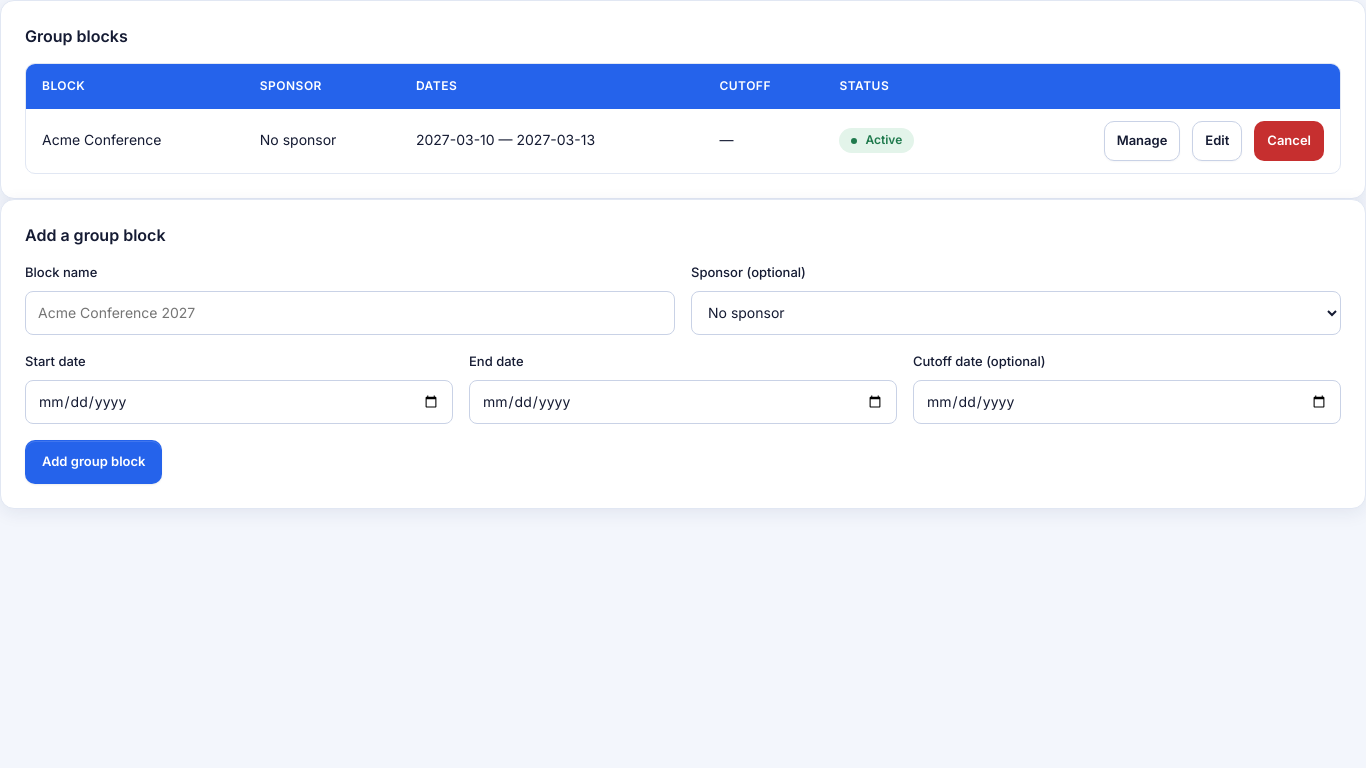
Test case: <BlocksTab> › surfaces a real backend error on create
expect the text "Acme Conference" is shown: met, box [26, 108, 244, 173]
Type "Bad Block" into the field with placeholder "Acme Conference 2027".
click(350, 313); type("Bad Block")  # box [25, 291, 675, 335]
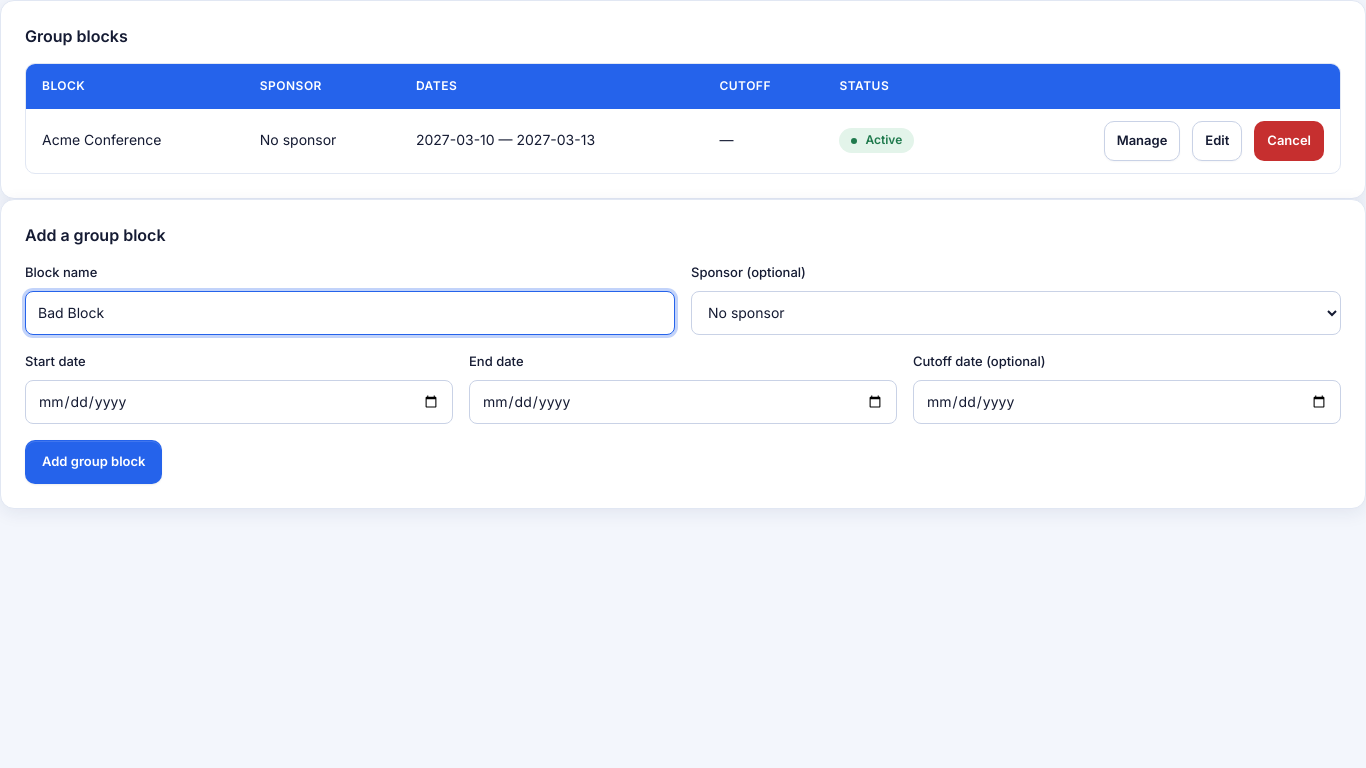
Type "2027-04-01" into the date field labelled "Start date".
click(239, 402); type("2027-04-01")  # box [25, 380, 453, 424]
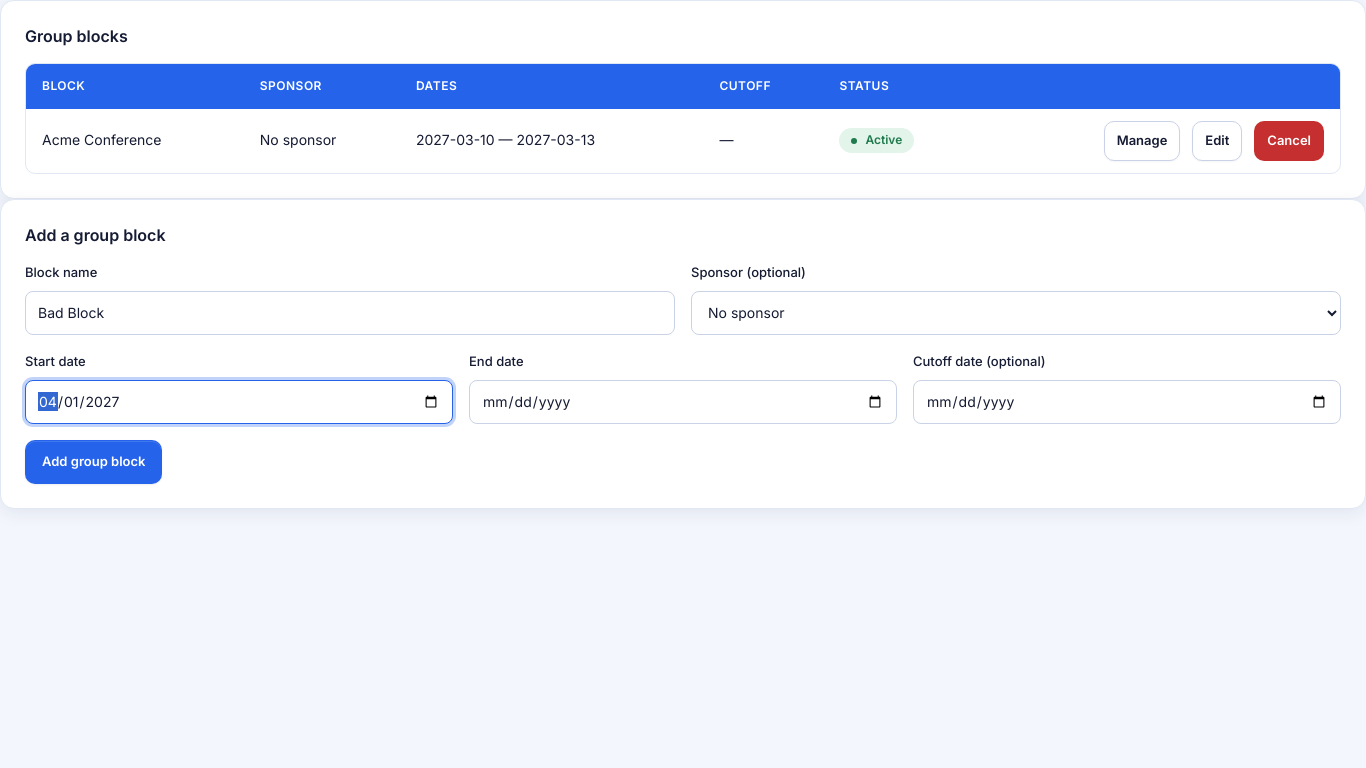
Type "2027-04-05" into the date field labelled "End date".
click(683, 402); type("2027-04-05")  # box [469, 380, 897, 424]
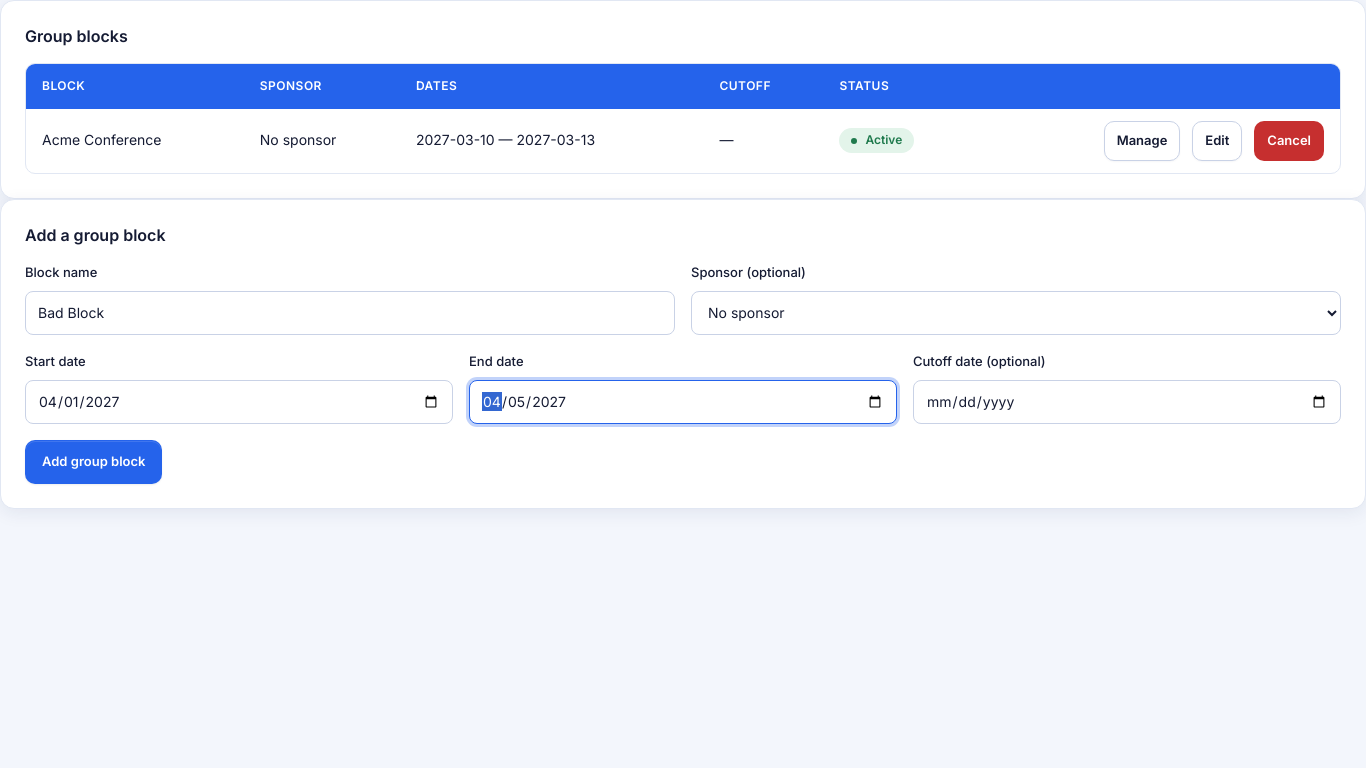
Click the button "Add group block".
click(94, 462)  # box [25, 440, 162, 484]
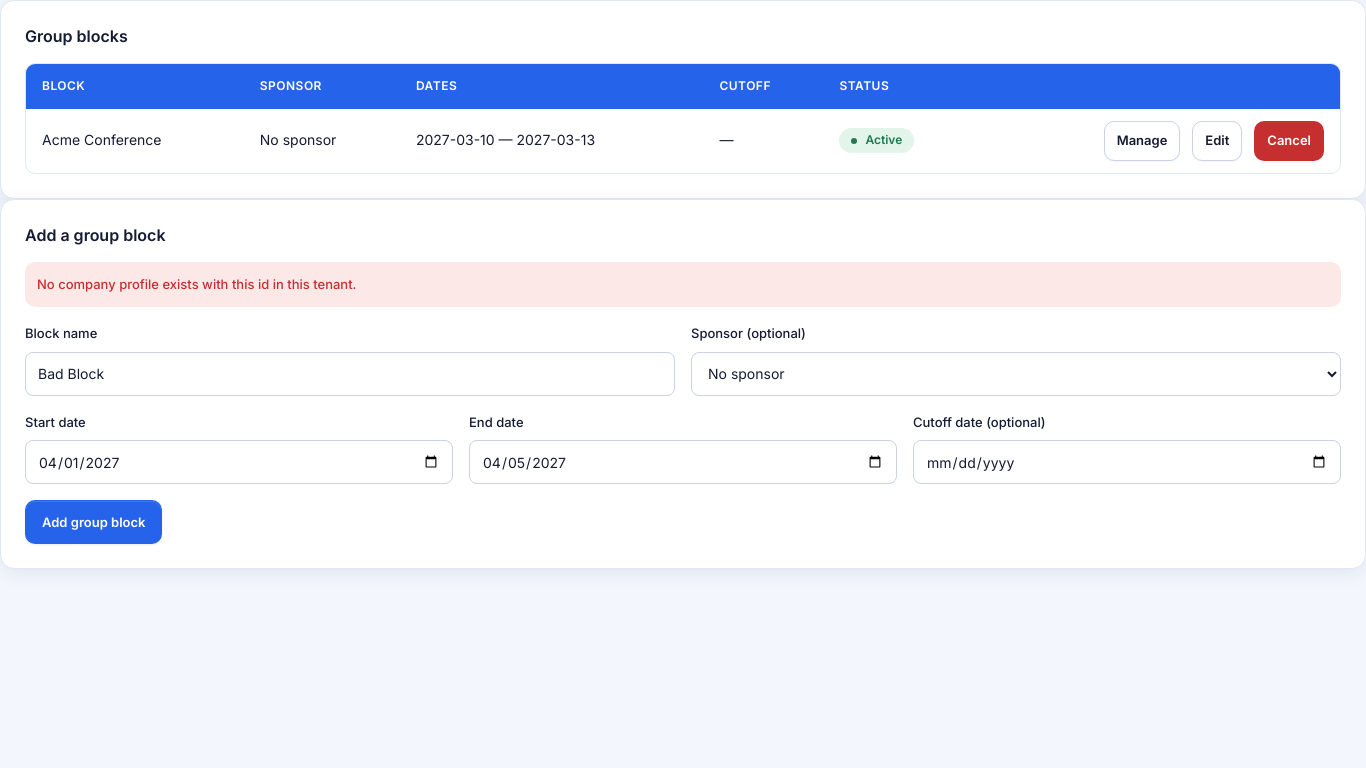
expect the message reads "No company profile exists with this id in this tenant.": met, box [37, 276, 356, 292]
